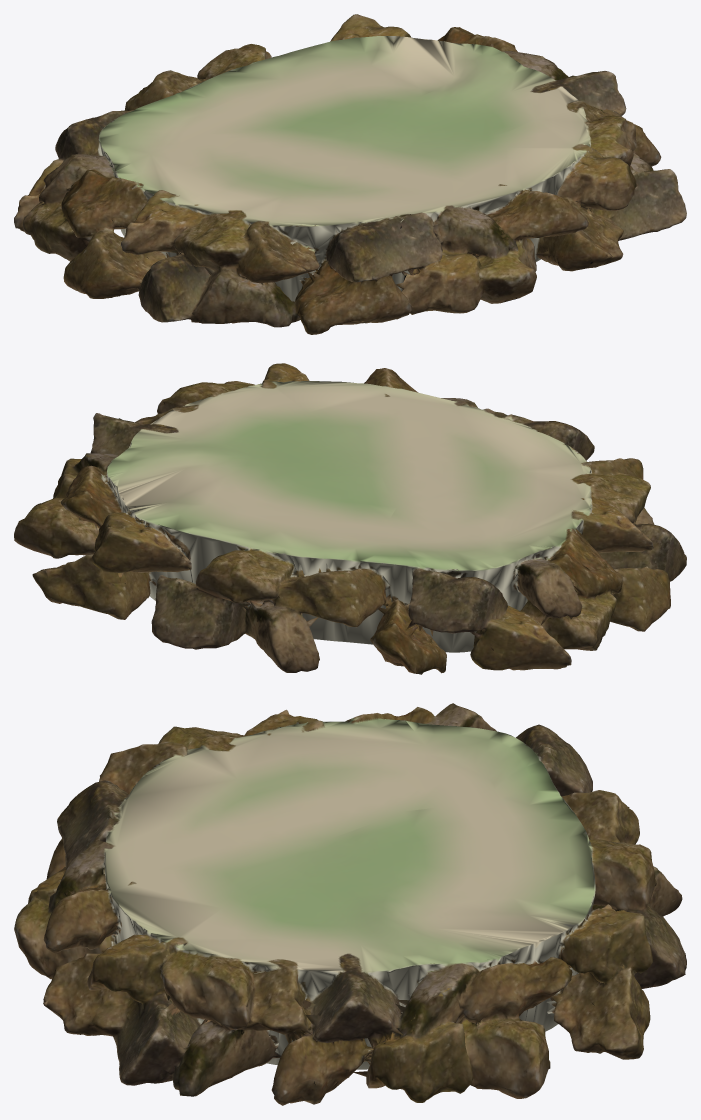
File: continuous_island_v10_0.glb
3 views of the same model, one above another, from view 1: azimuth 30°, elevation 25°; view 2: azimuth 150°, elevation 25°; view 3: azimuth 270°, elevation 25° (orthographic). The views are drawn at different scales.
Visible parts, largest first — view 1: Continuous_manifold_weathered_island_1; view 2: Continuous_manifold_weathered_island_1; view 3: Continuous_manifold_weathered_island_1.
Boxes of the visible parts, left/top/right/bottom form: Continuous_manifold_weathered_island_1: left=14, top=14, right=686, bottom=334; Continuous_manifold_weathered_island_1: left=14, top=363, right=686, bottom=674; Continuous_manifold_weathered_island_1: left=14, top=703, right=686, bottom=1105.
Size of the model in its own units: 31.67 by 4.92 by 26.54.
Materials: 1 (1 with a texture image).
